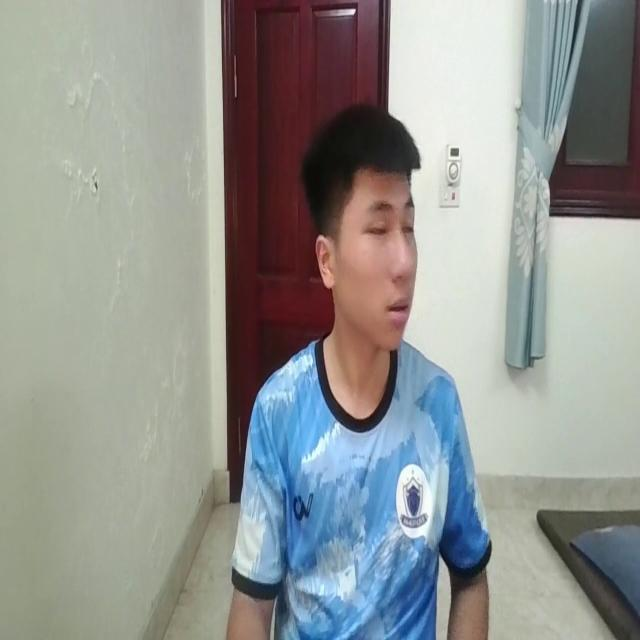student: (233, 102, 493, 640)
